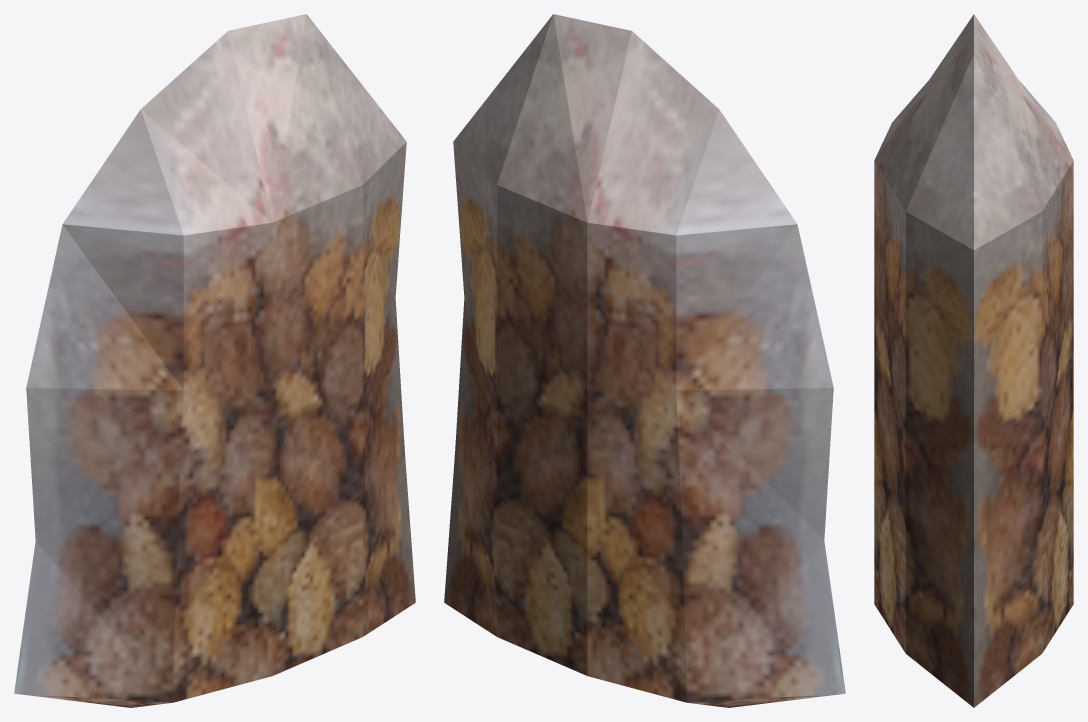
Rendered from WalnutBag01.obj.
3 renders of one model, left to right at view 1: azimuth 30°, elevation 25°; view 2: azimuth 150°, elevation 25°; view 3: azimuth 270°, elevation 25°, orthographic. The views are drawn at different scales.
Parts seen in each view (by area): view 1: WalnutBag01; view 2: WalnutBag01; view 3: WalnutBag01.
Part boxes in pixels (left/top/right/bottom): WalnutBag01: left=14, top=14, right=415, bottom=707; WalnutBag01: left=444, top=14, right=845, bottom=707; WalnutBag01: left=874, top=14, right=1073, bottom=707.
Size of the model in its own units: 0.2545 by 0.3955 by 0.1118.
